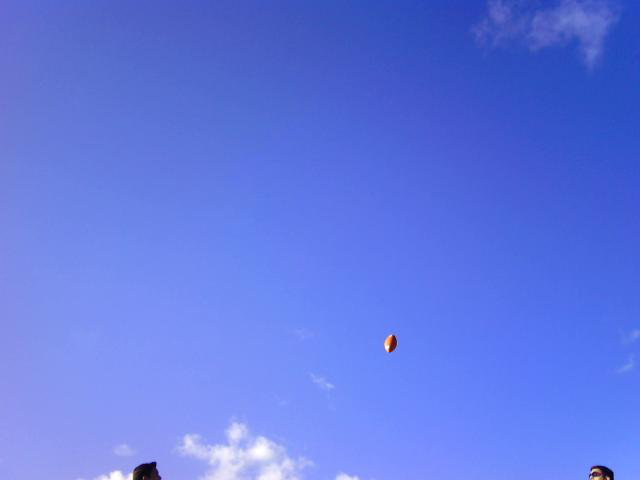football: (379, 333, 402, 356)
